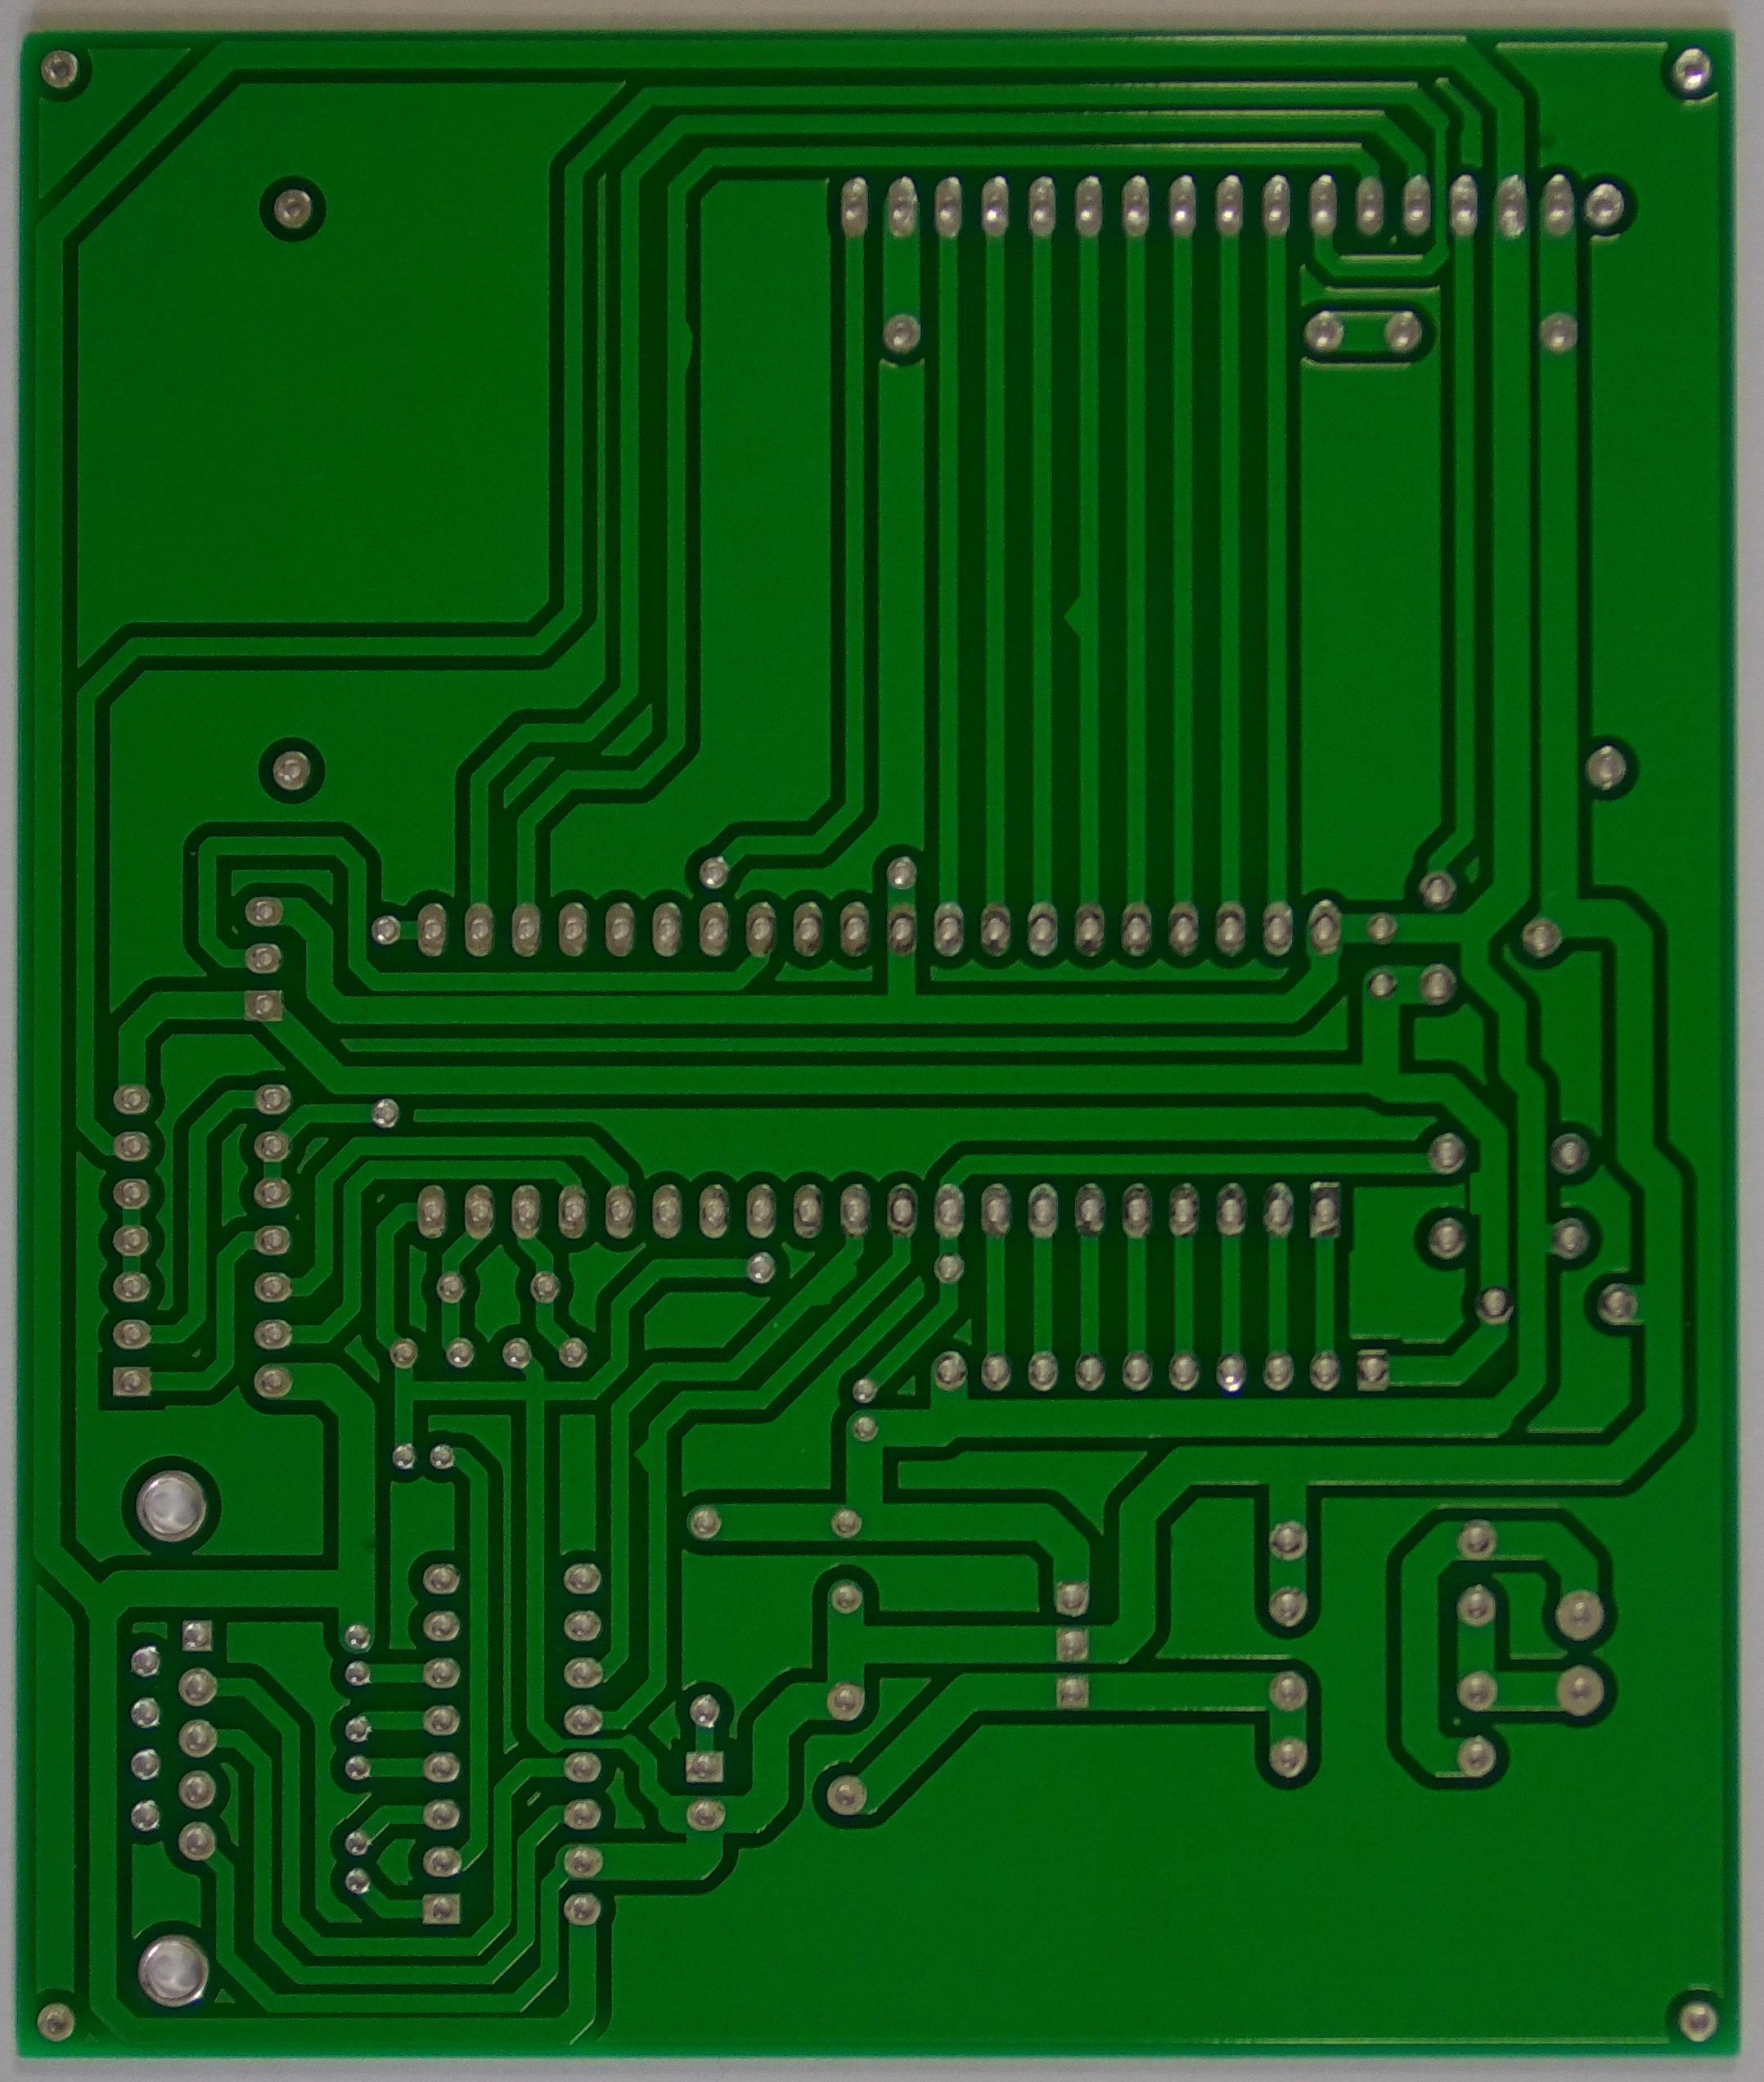spur: (787, 1254, 884, 1324), (1039, 546, 1092, 664), (1445, 1154, 1505, 1256), (605, 1411, 663, 1488), (675, 291, 714, 389)
